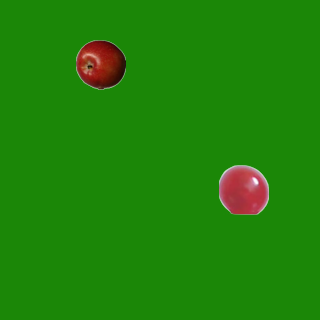Apple Braeburn: (75, 39, 125, 89)
Redcurrant: (218, 164, 268, 214)
